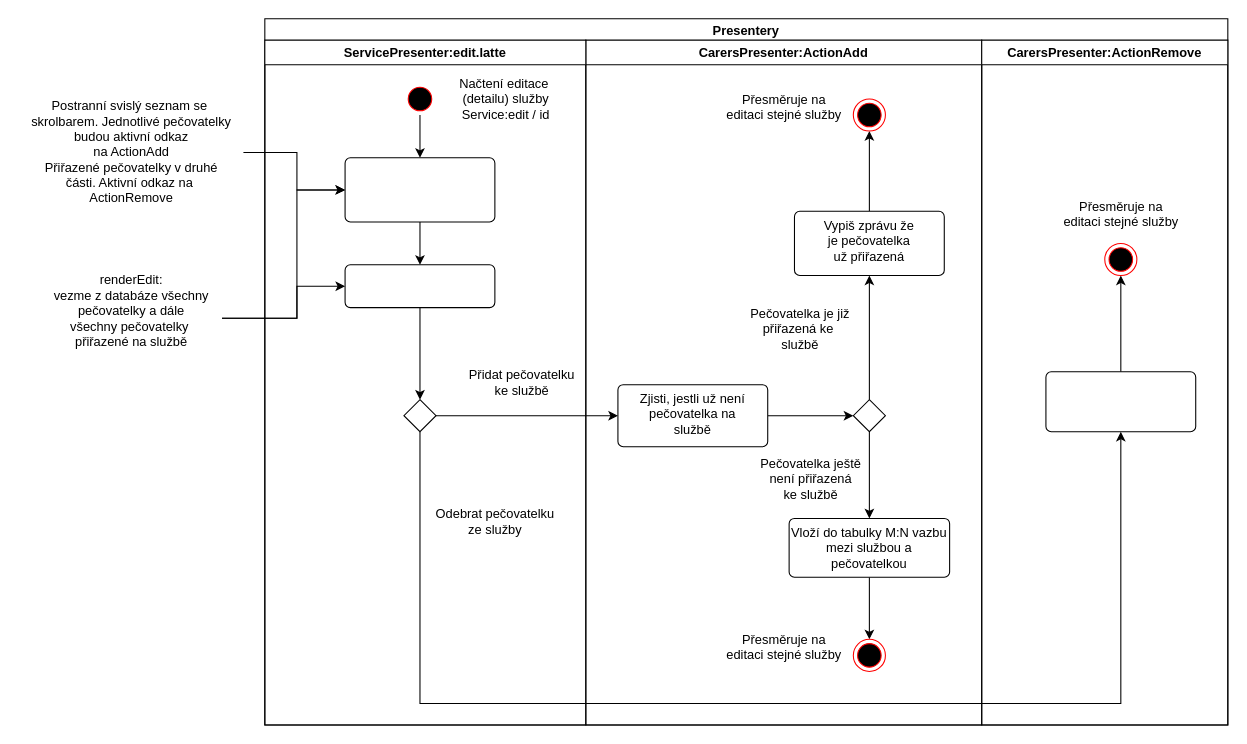
Some shapes in this 1247 by 744 pixel diagram are drawn without their labels. Each missing label, with the centre of its shape:
Vykresli formulář / seznam pečovatelek: "Přidat pečovatelky": point (419, 189)
Vykreslí seznam již přiřazených pečovatelek: point (419, 286)
Vymaže z tabulky M:N vazbu služba / pečovatelka: point (1120, 401)
